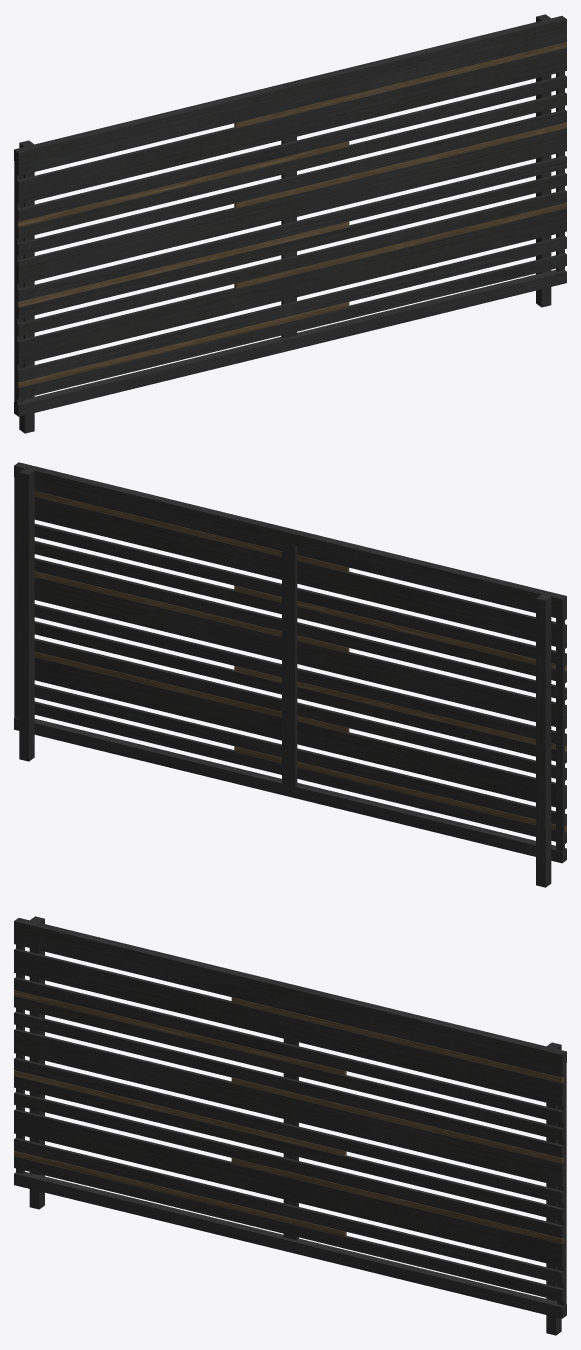
Rendered from everartfencekorabo_920-1998_charcoalgray-brownebony.fbx.
3 views of the same model, one above another, from view 1: azimuth 30°, elevation 25°; view 2: azimuth 150°, elevation 25°; view 3: azimuth 330°, elevation 25° (orthographic).
Visible parts, largest first — view 1: everartfencekorabo_920-1998_charcoalgray-brownebony; view 2: everartfencekorabo_920-1998_charcoalgray-brownebony; view 3: everartfencekorabo_920-1998_charcoalgray-brownebony.
Boxes of the visible parts, x1,y1,x2,y2 form: everartfencekorabo_920-1998_charcoalgray-brownebony: (14, 14, 566, 433); everartfencekorabo_920-1998_charcoalgray-brownebony: (14, 462, 566, 887); everartfencekorabo_920-1998_charcoalgray-brownebony: (14, 916, 566, 1335).
Bounding box in the file's own units: 200 × 100 × 6.5.
Materials: 2 (2 with a texture image).
